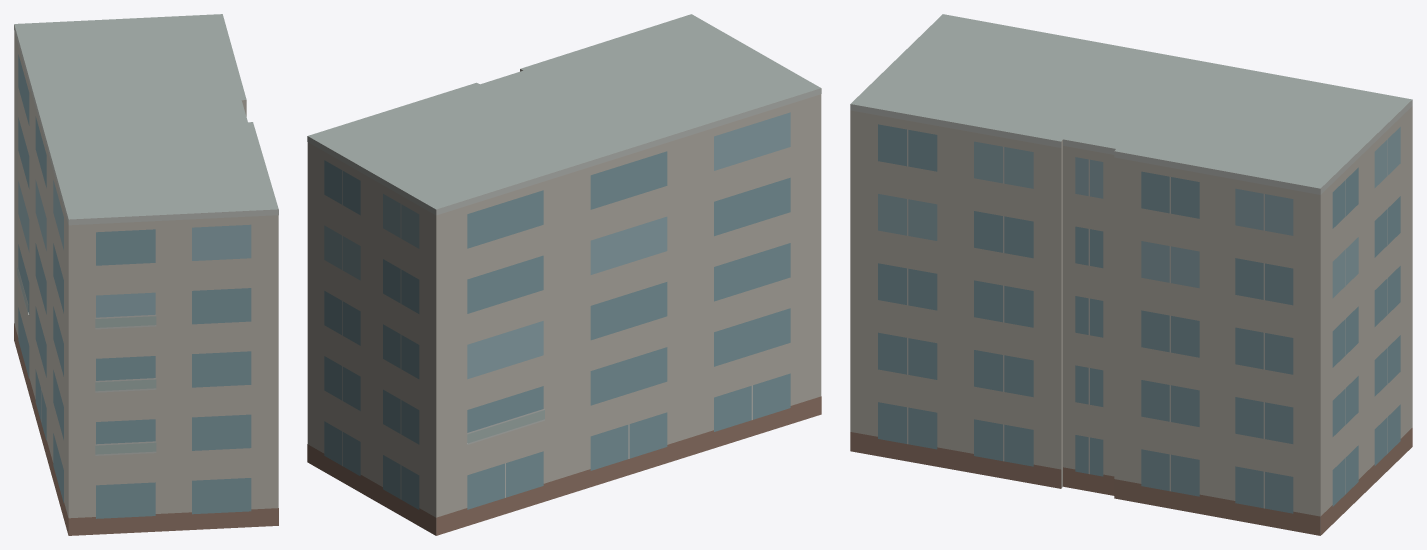
Rendered from survey-upis-33002670.glb.
3 renders of one model, left to right at view 1: azimuth 30°, elevation 25°; view 2: azimuth 150°, elevation 25°; view 3: azimuth 270°, elevation 25°, orthographic. The views are drawn at different scales.
Parts seen in each view (by area): view 1: survey-upis-33002670.tmp; view 2: survey-upis-33002670.tmp; view 3: survey-upis-33002670.tmp.
Boxes of the visible parts, left/top/right/bottom form: survey-upis-33002670.tmp: left=14, top=14, right=278, bottom=535; survey-upis-33002670.tmp: left=307, top=14, right=821, bottom=535; survey-upis-33002670.tmp: left=850, top=14, right=1412, bottom=535.
Size of the model in its own units: 14.36 by 13.3 by 19.53.
